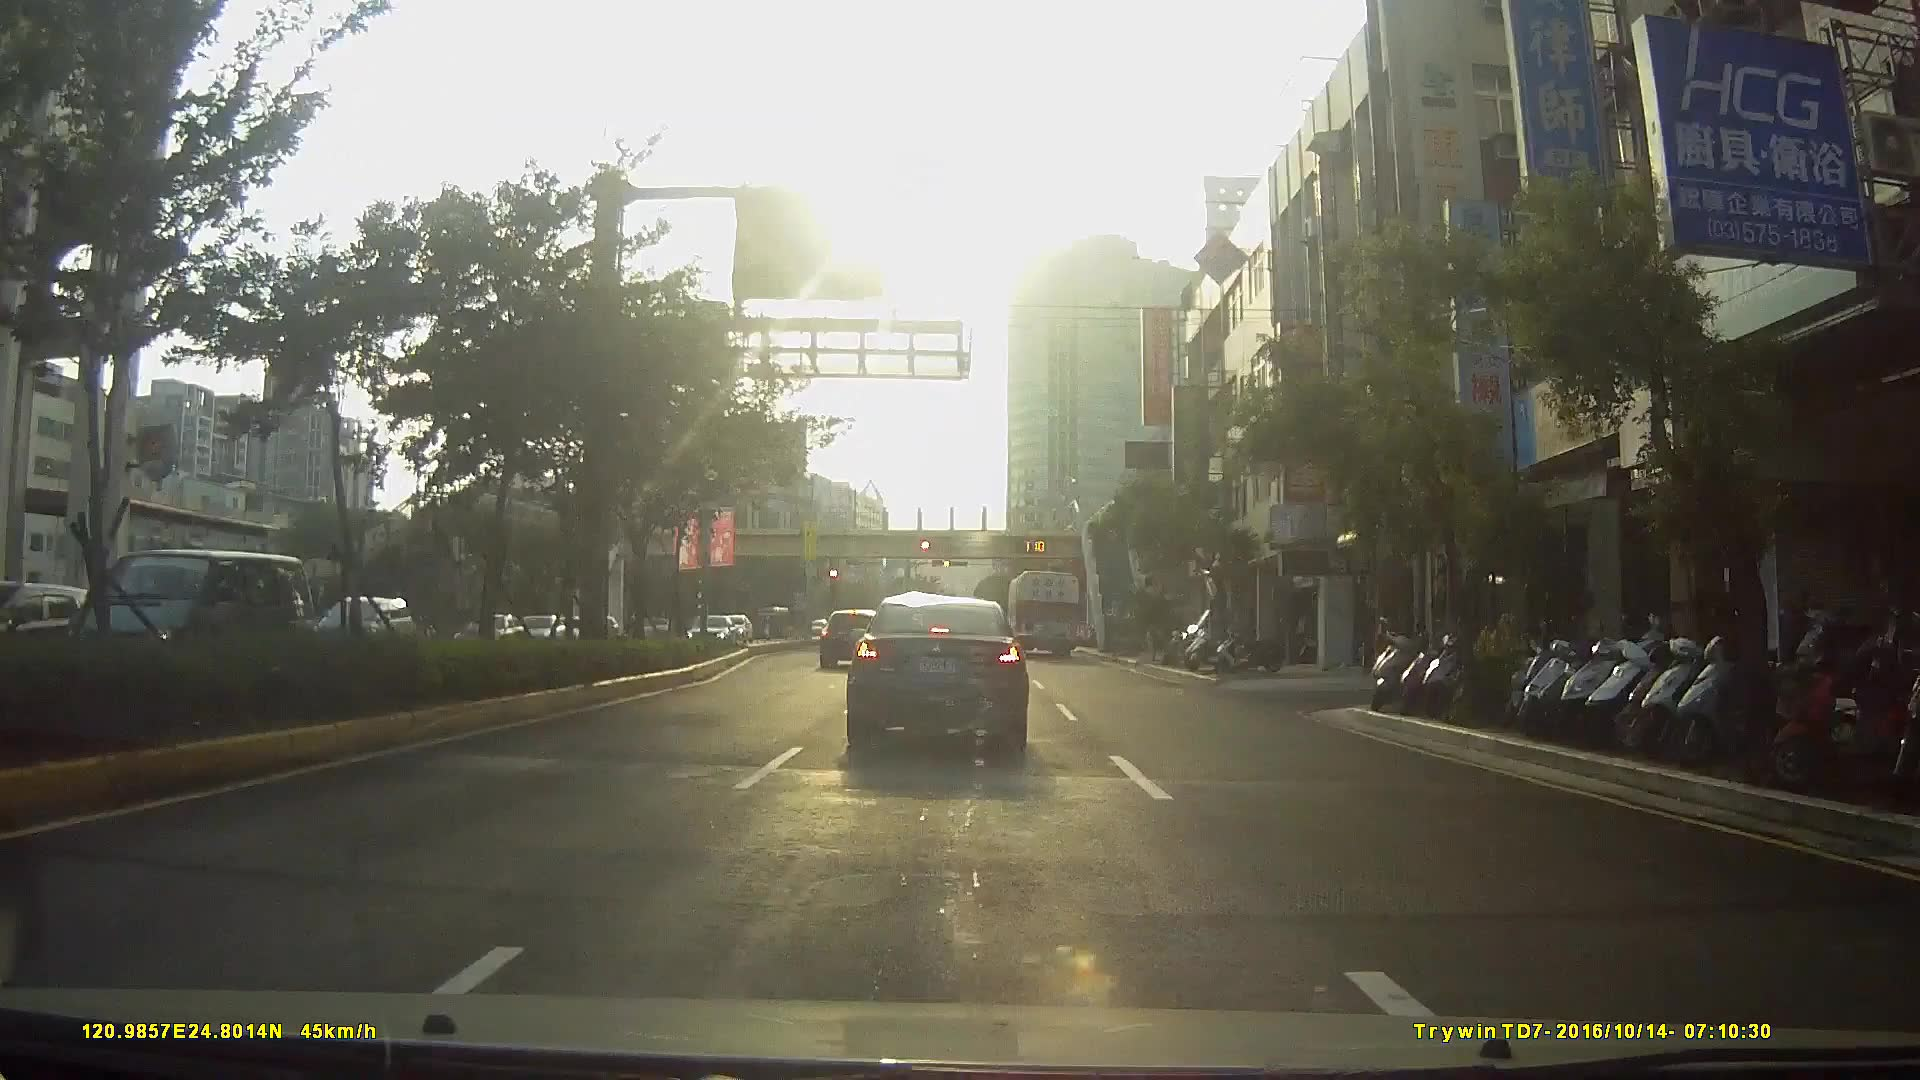vehicle: (40, 549, 285, 682), (844, 593, 1030, 756), (1004, 567, 1081, 661), (305, 596, 410, 659), (815, 607, 884, 674), (680, 615, 738, 653)
